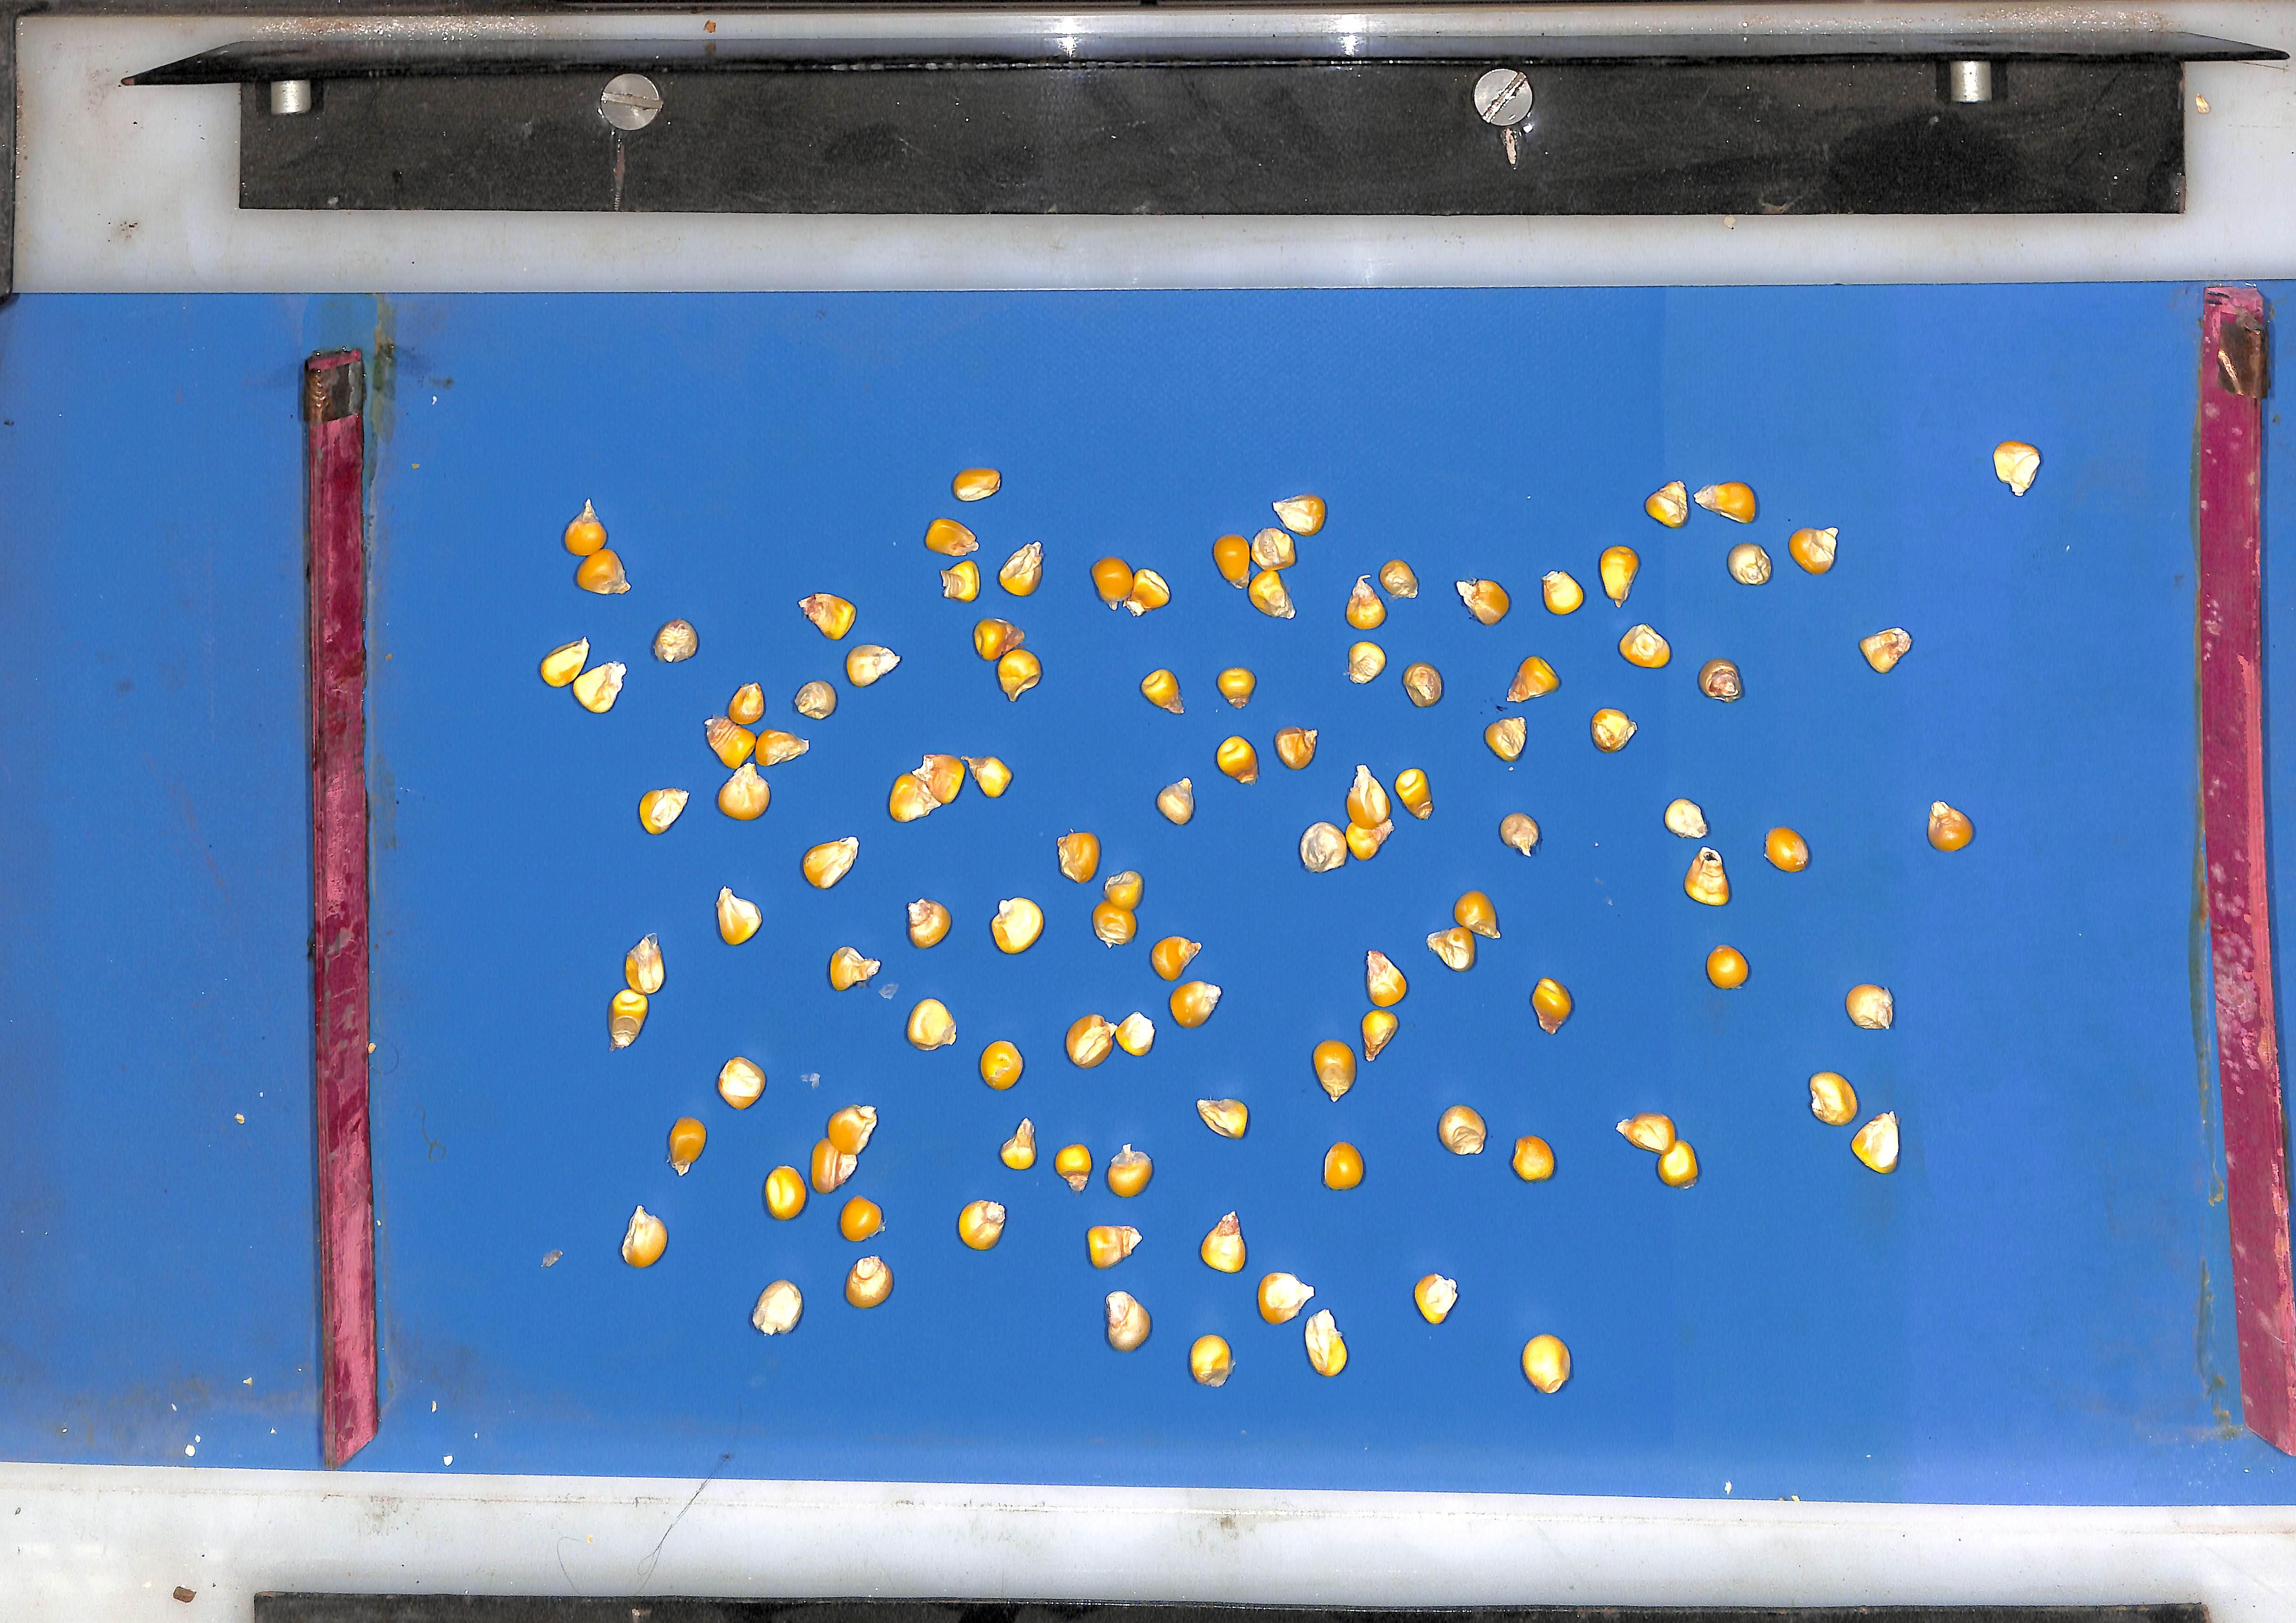Im: (809, 1105, 878, 1194), (888, 755, 965, 822), (716, 759, 769, 820), (1304, 1310, 1350, 1379), (990, 898, 1044, 954), (1854, 1112, 1903, 1173), (800, 836, 857, 889), (620, 1207, 665, 1270), (750, 1282, 802, 1337), (569, 660, 625, 711), (1259, 1273, 1315, 1324), (1524, 1337, 1573, 1395), (1201, 1212, 1246, 1273), (1348, 764, 1392, 827), (572, 545, 628, 594), (1996, 437, 2045, 494), (1106, 1293, 1152, 1352), (704, 715, 755, 768), (1299, 820, 1350, 873), (1065, 1013, 1115, 1068), (1812, 1071, 1861, 1126), (714, 887, 760, 945), (1687, 848, 1733, 906), (906, 998, 955, 1050), (1315, 1040, 1357, 1101), (1697, 480, 1759, 522), (1106, 1143, 1153, 1198), (799, 592, 855, 638), (957, 1201, 1006, 1252), (716, 1057, 764, 1110), (844, 1258, 892, 1310), (1171, 980, 1223, 1028), (1459, 576, 1511, 624), (762, 1166, 807, 1221), (562, 497, 606, 553), (1367, 950, 1410, 1008), (1248, 566, 1295, 617), (623, 934, 664, 994), (1601, 545, 1641, 604), (1508, 655, 1561, 701), (1620, 622, 1673, 667), (1862, 627, 1915, 673), (1087, 1226, 1141, 1270), (999, 539, 1043, 594), (607, 989, 646, 1050), (844, 643, 900, 685), (1532, 977, 1575, 1033), (1620, 1114, 1678, 1154), (537, 638, 586, 685), (1439, 1107, 1487, 1156), (1792, 525, 1841, 573), (637, 789, 688, 834), (1152, 936, 1202, 982), (1190, 1337, 1234, 1389), (997, 646, 1041, 699), (665, 1117, 706, 1173), (1455, 891, 1503, 938), (906, 899, 951, 949), (1931, 801, 1977, 850), (1429, 926, 1478, 971), (829, 947, 879, 991), (979, 1040, 1023, 1091), (1415, 1275, 1459, 1326), (1273, 492, 1327, 532), (1057, 833, 1101, 882), (1090, 555, 1134, 604), (972, 617, 1023, 659), (1125, 567, 1171, 613), (1768, 826, 1813, 871), (1594, 706, 1639, 752), (649, 617, 697, 660), (1848, 985, 1896, 1029), (1485, 715, 1529, 762), (1647, 480, 1690, 527), (753, 729, 809, 766), (1216, 734, 1259, 783), (1346, 576, 1387, 627), (925, 516, 978, 555), (1396, 766, 1434, 819), (1213, 534, 1252, 587), (1094, 899, 1137, 945), (1701, 657, 1747, 701), (1659, 1140, 1701, 1187), (1197, 1100, 1248, 1138), (1362, 1010, 1401, 1061), (839, 1198, 883, 1242), (1513, 1138, 1557, 1182), (1708, 945, 1752, 989), (967, 755, 1013, 797), (1141, 667, 1183, 713), (1252, 525, 1297, 567), (1325, 1143, 1366, 1191), (1346, 819, 1394, 859), (999, 1119, 1036, 1170), (1501, 811, 1543, 855), (1545, 569, 1587, 613), (1731, 541, 1775, 583), (1404, 660, 1445, 706), (1157, 776, 1195, 824), (1276, 727, 1318, 769), (1115, 1012, 1155, 1056), (1668, 797, 1711, 838), (1055, 1145, 1092, 1193), (951, 465, 1001, 501), (793, 678, 836, 718), (939, 559, 979, 601), (725, 682, 764, 725), (1104, 869, 1144, 910), (1380, 557, 1420, 597), (1350, 639, 1388, 682), (1218, 666, 1257, 706), (744, 1089, 748, 1091)
